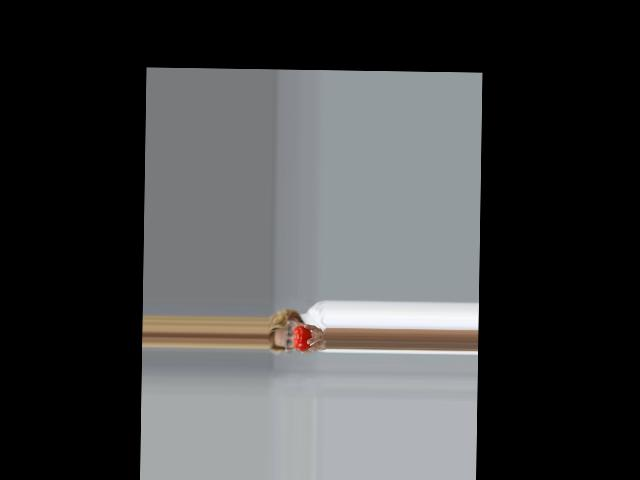tomato: (294, 324, 311, 350)
